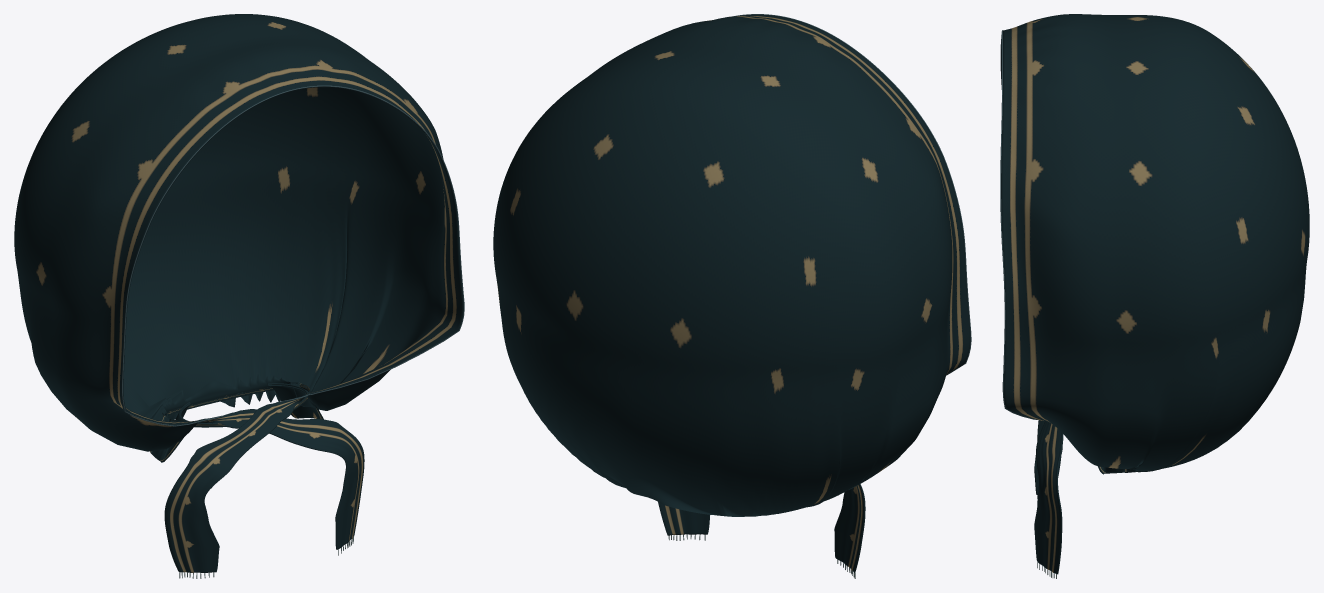
Rendered from Masculine-flow-pashmina251-headgear.glb.
3 views of the same model, side by side, from view 1: azimuth 30°, elevation 25°; view 2: azimuth 150°, elevation 25°; view 3: azimuth 270°, elevation 25° (orthographic). The views are drawn at different scales.
Visible parts, largest first — view 1: 226 headgear / Headwear / continuous woven pashmina239.002, 226 headgear / Headwear / face edge239.002; view 2: 226 headgear / Headwear / continuous woven pashmina239.002, 226 headgear / Headwear / face edge239.002; view 3: 226 headgear / Headwear / continuous woven pashmina239.002, 226 headgear / Headwear / face edge239.002.
Part boxes in pixels (left/top/right/bottom): 226 headgear / Headwear / continuous woven pashmina239.002: left=14, top=14, right=463, bottom=572; 226 headgear / Headwear / face edge239.002: left=122, top=85, right=464, bottom=426; 226 headgear / Headwear / continuous woven pashmina239.002: left=493, top=14, right=970, bottom=572; 226 headgear / Headwear / face edge239.002: left=732, top=14, right=971, bottom=375; 226 headgear / Headwear / continuous woven pashmina239.002: left=1001, top=14, right=1309, bottom=574; 226 headgear / Headwear / face edge239.002: left=1000, top=30, right=1038, bottom=420.
Size of the model in its own units: 1.1 by 1.4 by 0.7763.
3 materials, 1 textured.
